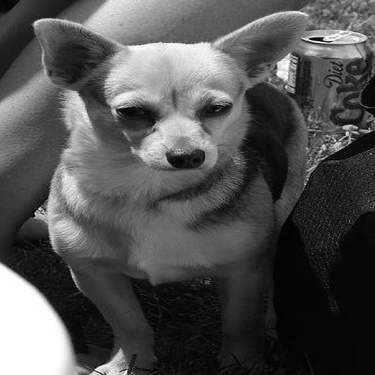dog: (19, 9, 314, 373)
